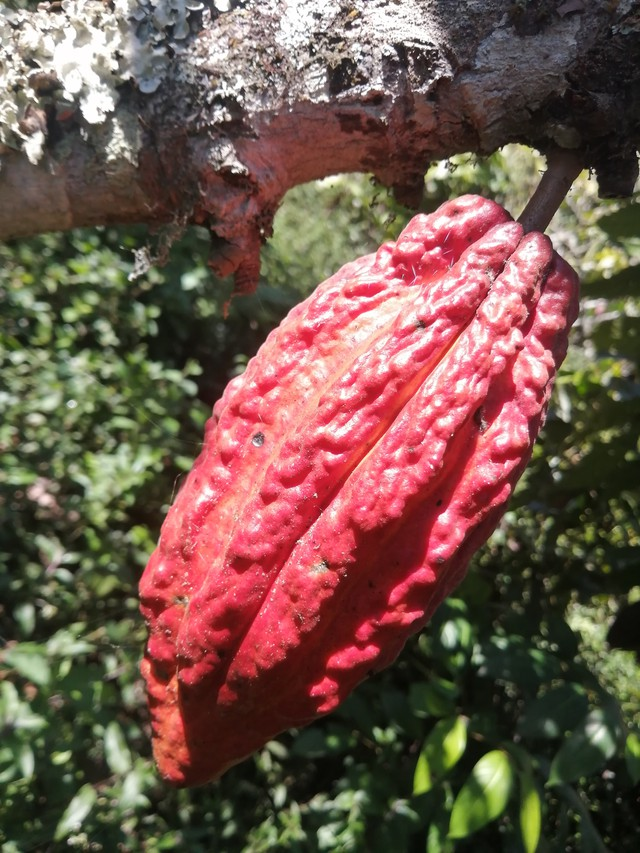Health: (126, 147, 596, 802)
